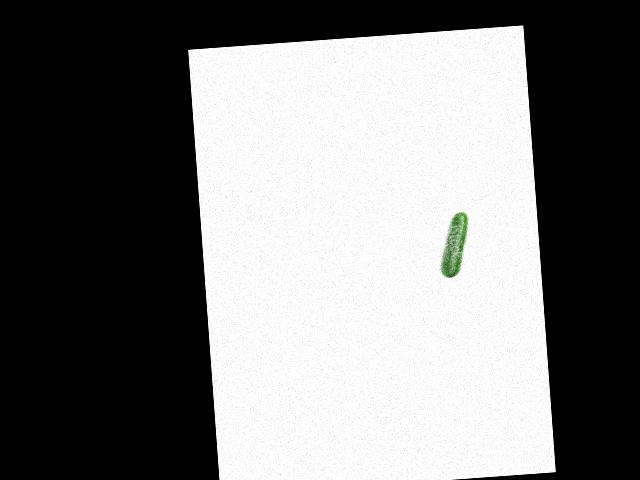cucumber: (437, 211, 472, 278)
